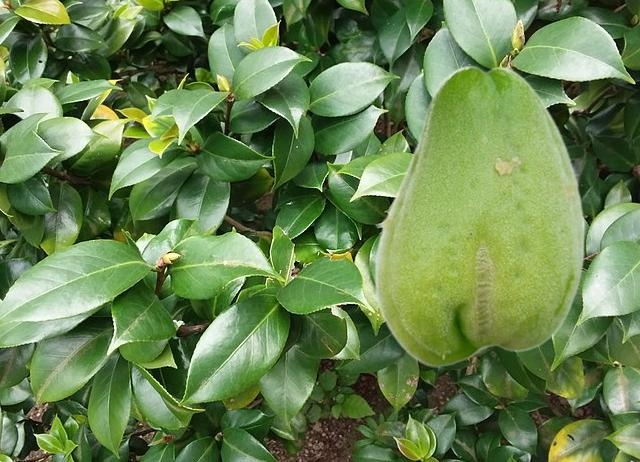sayote: (373, 64, 584, 366)
